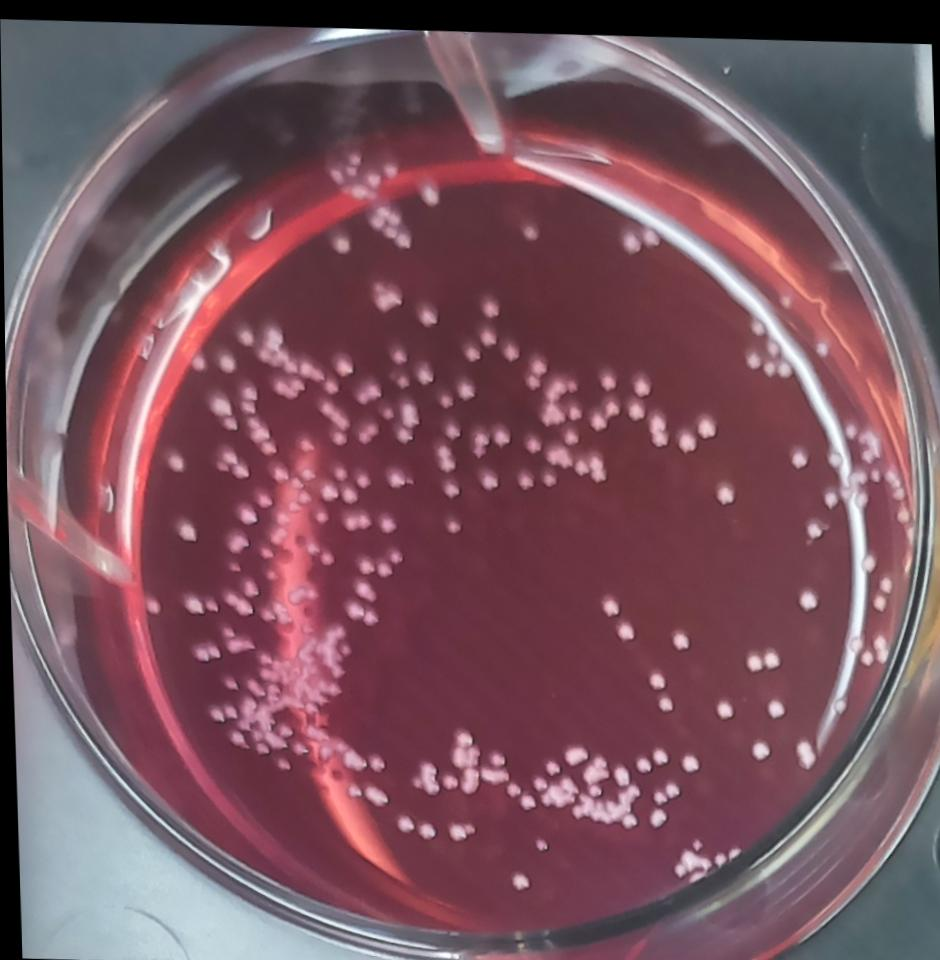staphylo-: (582, 386, 621, 431), (365, 195, 404, 237), (535, 769, 577, 807), (446, 717, 480, 763), (367, 272, 405, 311), (667, 840, 710, 873), (642, 402, 670, 445), (315, 392, 350, 426), (351, 369, 384, 404), (218, 520, 250, 554), (267, 370, 307, 397), (577, 747, 609, 780), (791, 727, 818, 765), (647, 771, 681, 801), (337, 503, 371, 531), (187, 632, 221, 660), (791, 576, 822, 606), (170, 513, 201, 543), (691, 401, 719, 434), (430, 435, 457, 469), (665, 617, 694, 648), (709, 470, 738, 501), (615, 219, 644, 250), (671, 418, 699, 449), (353, 413, 381, 444), (444, 813, 476, 840), (413, 295, 441, 325), (537, 395, 568, 422), (674, 742, 702, 771), (396, 393, 421, 425), (330, 347, 357, 376), (542, 436, 572, 462), (627, 362, 652, 393), (621, 387, 646, 418), (411, 352, 436, 383), (587, 446, 609, 481), (468, 422, 491, 455), (505, 862, 532, 890), (783, 437, 811, 464), (746, 728, 772, 757), (249, 482, 276, 509), (710, 690, 736, 718), (262, 455, 290, 481), (543, 369, 568, 398), (329, 224, 354, 253), (869, 620, 889, 656), (419, 171, 440, 205), (456, 760, 479, 791), (372, 505, 398, 532), (559, 737, 588, 761), (802, 507, 826, 536), (642, 660, 668, 686), (233, 498, 259, 524), (609, 613, 636, 638), (179, 588, 204, 614), (512, 461, 536, 488), (316, 473, 340, 500), (163, 446, 186, 474), (596, 587, 621, 612), (473, 461, 498, 486), (439, 509, 465, 533), (522, 348, 548, 372), (336, 478, 360, 504), (527, 825, 550, 852), (763, 687, 786, 714), (490, 417, 512, 445), (475, 318, 500, 342), (644, 798, 667, 824), (478, 287, 501, 313), (759, 638, 781, 665), (383, 459, 405, 486), (391, 807, 415, 831), (385, 338, 409, 362), (594, 359, 617, 384), (391, 417, 414, 442), (416, 814, 438, 840), (641, 217, 663, 243), (453, 372, 475, 398), (646, 738, 670, 761), (518, 214, 541, 238), (215, 349, 238, 373), (217, 668, 240, 692), (818, 477, 839, 503), (253, 434, 280, 454), (459, 336, 482, 359), (628, 747, 652, 769), (291, 432, 315, 454), (741, 642, 762, 667), (746, 306, 767, 331), (500, 335, 520, 361), (520, 427, 543, 449), (436, 473, 458, 496), (394, 223, 416, 246), (858, 541, 878, 566), (539, 460, 559, 484), (611, 756, 629, 782), (652, 687, 674, 708), (564, 393, 585, 415), (235, 323, 256, 345), (528, 766, 548, 788), (440, 415, 462, 435), (376, 396, 394, 420), (743, 342, 763, 363), (328, 458, 349, 478), (328, 423, 348, 444), (774, 353, 796, 372), (538, 752, 558, 772), (352, 466, 372, 486), (522, 367, 541, 388), (868, 582, 886, 604), (763, 330, 780, 353), (435, 386, 455, 405), (824, 440, 842, 461), (486, 744, 505, 763), (618, 806, 636, 826), (812, 331, 830, 351), (516, 787, 535, 805), (845, 626, 863, 645), (283, 494, 302, 512), (502, 775, 522, 792), (709, 841, 726, 861), (875, 565, 892, 585), (559, 423, 579, 440), (324, 372, 340, 393), (858, 640, 872, 662), (572, 452, 589, 470), (584, 777, 602, 793), (830, 688, 846, 705), (687, 831, 703, 845)
